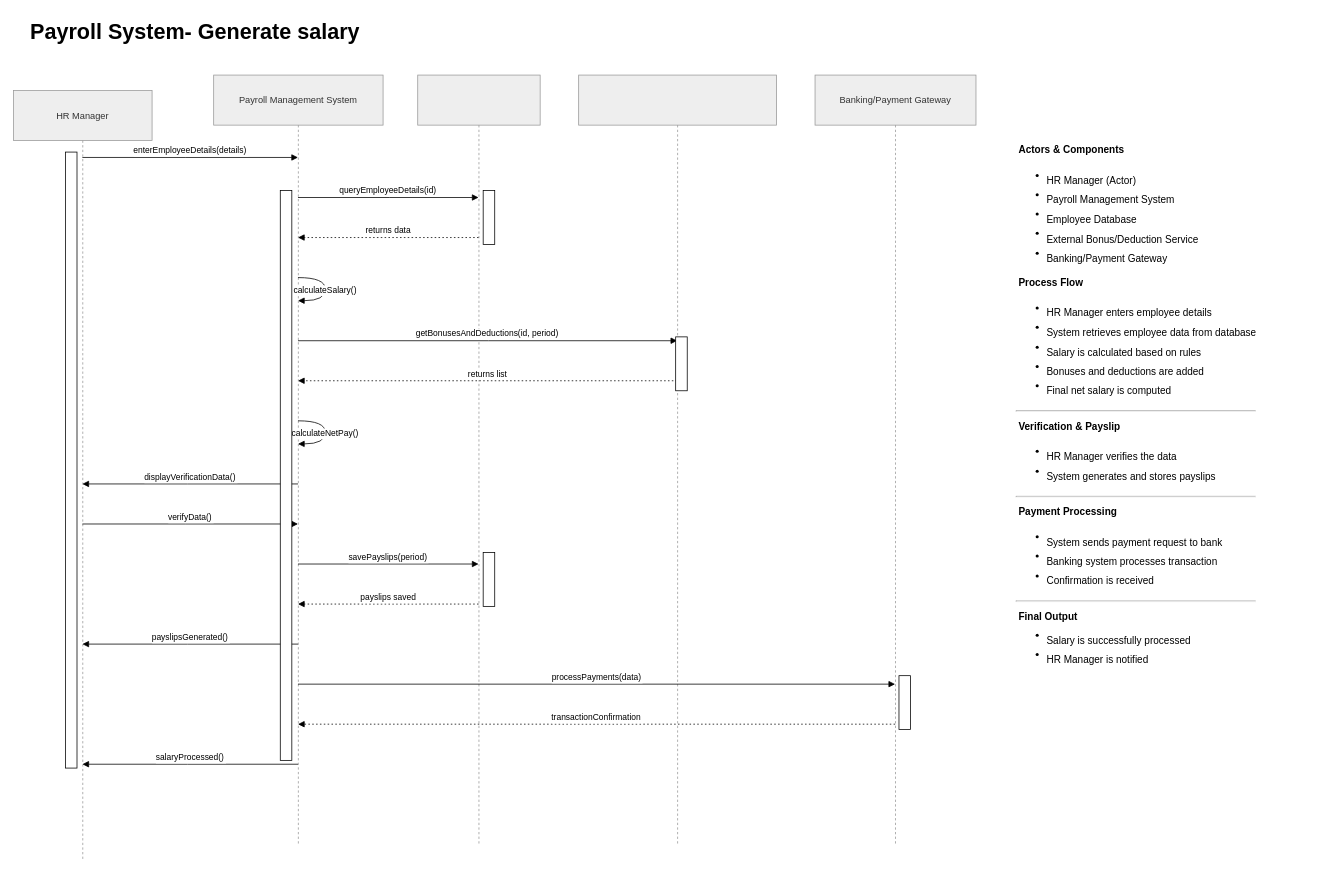
The diagram is 1336 pixels wide and 874 high, and some of its shapes have lost their labels. The box of each missing label's shape, as (x1, y1, x2, y2) in pixels:
Employee Database: (417, 74, 540, 845)
External Bonus/Deduction Service: (578, 74, 777, 845)
